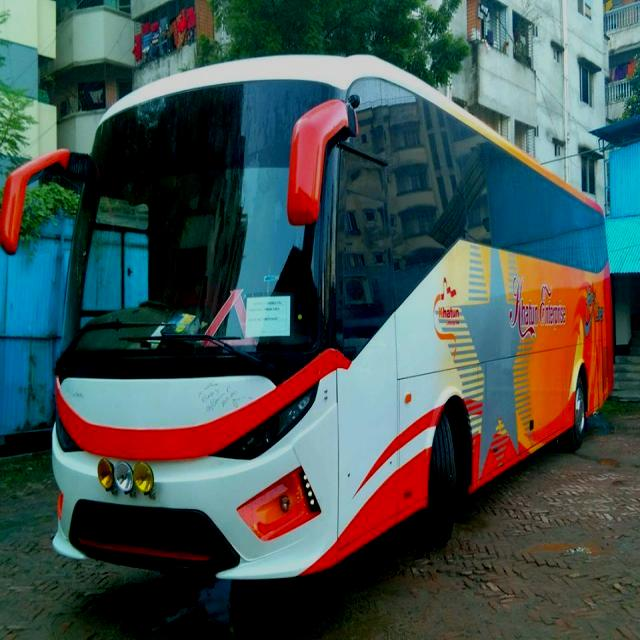bus: (2, 52, 617, 585)
